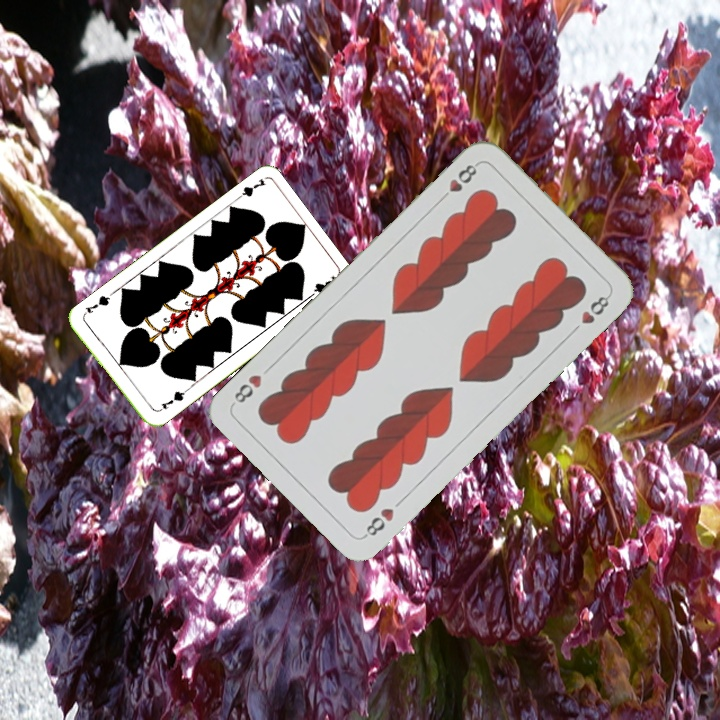G7: (231, 174, 268, 204), (157, 386, 188, 412)
H8: (435, 159, 482, 205), (360, 504, 397, 541)
